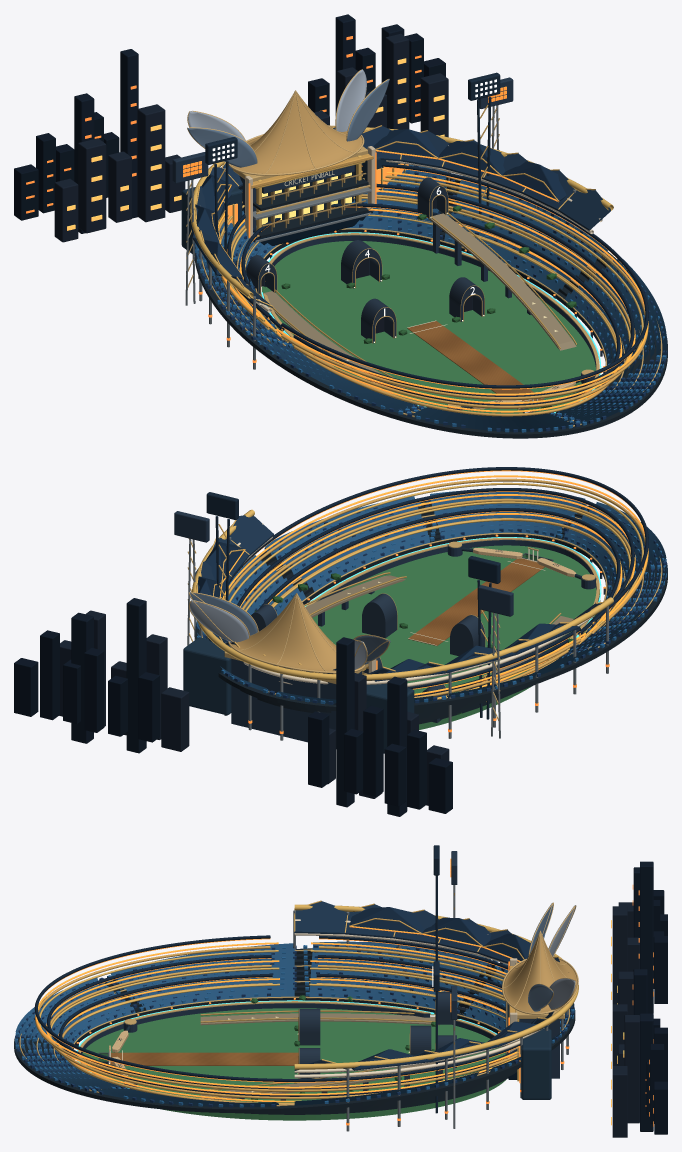
The model's file is cricket-stadium-r28.glb.
The picture shows the model from 3 angles, top to bottom: view 1: azimuth 30°, elevation 25°; view 2: azimuth 150°, elevation 25°; view 3: azimuth 270°, elevation 25°; orthographic projection. The views are drawn at different scales.
Visible parts, largest first — view 1: Arena_Field_Substrate, R14_Pavilion_Curved_Centre, Seating_Terrace_09, Individual_Seats_0, Individual_Seats_1, R9_City_3, R11_Tier_Upper_2, Six_Ramp, Measured_Pitch, R11_Tier_Lower_2, R9_City_1, R11_Tier_Upper_1 (+65 smaller); view 2: Arena_Field_Substrate, R14_Pavilion_Curved_Centre, Pavilion_Shell, R7_Upper_Fascia_2, R7_Pavilion_Wing_Mass_1, Seating_Terrace_09, Individual_Seats_0, Individual_Seats_1, R11_Tier_Upper_2, R11_Tier_Upper_1, R10_SkyTower_2, Crowd_Band_Dense_0 (+63 smaller); view 3: Arena_Field_Substrate, Seating_Terrace_09, R11_Tier_Upper_2, Crowd_Band_Dense_9, R11_Tier_Lower_2, Individual_Seats_0, Crowd_Band_Dense_0, Individual_Seats_1, R11_Tier_Upper_1, R14_Pavilion_Curved_Centre, Measured_Pitch, R11_Tier_Lower_1 (+66 smaller).
Boxes of the visible parts, x1,y1,x2,y2 form: Arena_Field_Substrate: [262, 241, 599, 413]; R14_Pavilion_Curved_Centre: [230, 93, 362, 173]; Seating_Terrace_09: [194, 177, 667, 438]; Individual_Seats_0: [194, 165, 666, 432]; Individual_Seats_1: [194, 165, 667, 432]; R9_City_3: [137, 104, 165, 222]; R11_Tier_Upper_2: [220, 163, 648, 388]; Six_Ramp: [428, 213, 576, 350]; Measured_Pitch: [407, 321, 543, 409]; R11_Tier_Lower_2: [219, 175, 648, 399]; R9_City_1: [78, 138, 106, 233]; R11_Tier_Upper_1: [227, 184, 634, 396]; Arena_Field_Substrate: [312, 545, 600, 729]; R14_Pavilion_Curved_Centre: [230, 596, 362, 673]; Pavilion_Shell: [231, 658, 362, 748]; R7_Upper_Fascia_2: [192, 509, 613, 680]; R7_Pavilion_Wing_Mass_1: [183, 637, 231, 715]; Seating_Terrace_09: [195, 501, 667, 710]; Individual_Seats_0: [197, 493, 667, 704]; Individual_Seats_1: [196, 493, 667, 704]; R11_Tier_Upper_2: [229, 467, 648, 688]; R11_Tier_Upper_1: [237, 488, 634, 696]; R10_SkyTower_2: [126, 598, 146, 753]; Crowd_Band_Dense_0: [277, 525, 611, 648]; Arena_Field_Substrate: [82, 1008, 506, 1120]; Seating_Terrace_09: [14, 948, 575, 1112]; R11_Tier_Upper_2: [34, 935, 520, 1081]; Crowd_Band_Dense_9: [15, 941, 574, 1106]; R11_Tier_Lower_2: [35, 946, 517, 1091]; Individual_Seats_0: [15, 945, 574, 1107]; Crowd_Band_Dense_0: [67, 989, 505, 1087]; Individual_Seats_1: [15, 945, 574, 1107]; R11_Tier_Upper_1: [47, 955, 517, 1089]; R14_Pavilion_Curved_Centre: [503, 934, 576, 1012]; Measured_Pitch: [110, 1052, 298, 1065]; R11_Tier_Lower_1: [49, 964, 504, 1099].
Size of the model in its own units: 13.13 by 5.16 by 19.12.
Materials: 58 (1 with a texture image).
